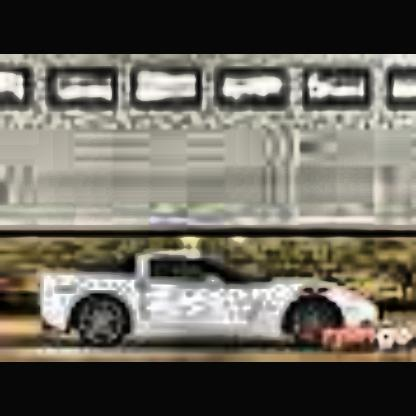Chevrolet Corvette Ron Fellows Edition Z06 2007: (34, 246, 389, 353)
